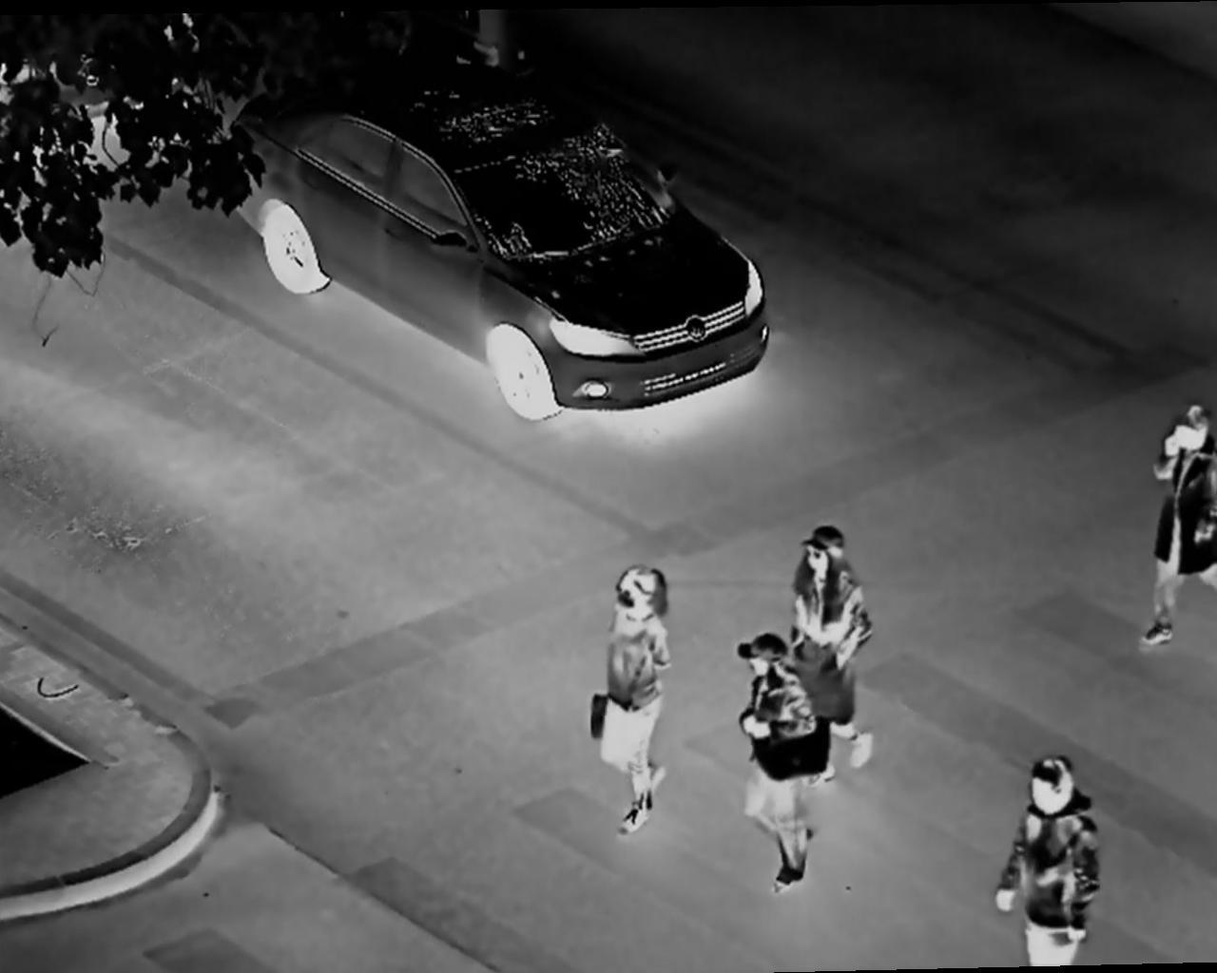person: (582, 563, 694, 847), (724, 621, 833, 895), (785, 519, 887, 792), (997, 746, 1119, 973), (1143, 390, 1217, 643)
